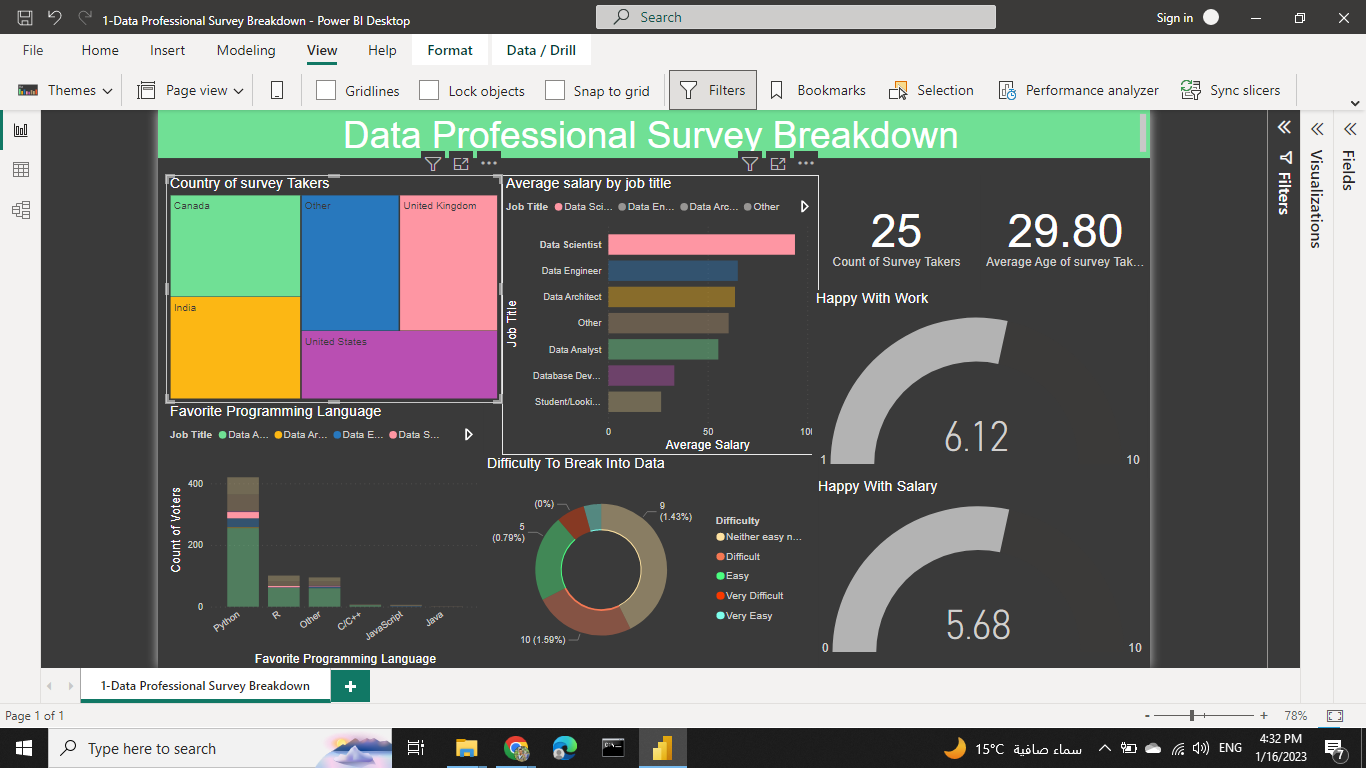

The dashboard page shown, as its layout file describes it:
{"tool":"powerbi","page":{"name":"Page 1","canvas":[1280,720],"ordinal":0},"visuals":[{"type":"textbox","box":[0,0,1280,62.2],"z":0},{"type":"card","fields":{"Values":["Count(Data Professional Survey.Unique ID)"]},"box":[843.3,84,218.4,151.2],"z":1000},{"type":"card","fields":{"Values":["Avg(Data Professional Survey.Q10 - Current Age)"]},"box":[1061.6,84,218.4,151.2],"z":2000},{"type":"barChart","title":"Average salary by job title","fields":{"Category":["Data Professional Survey.Q1 - Which Title Best Fits your Current Role?.1"],"Y":["Avg(Data Professional Survey.Average Salary)"],"Series":["Data Professional Survey.Q1 - Which Title Best Fits your Current Role?.1"]},"box":[443.5,84,409.9,361.2],"z":3000},{"type":"columnChart","title":"Favorite Programming Language","fields":{"Category":["Data Professional Survey.Q5 - Favorite Programming Language.1"],"Y":["CountNonNull(Data Professional Survey.Unique ID)"],"Series":["Data Professional Survey.Q1 - Which Title Best Fits your Current Role?.1"]},"box":[10.1,378,409.9,342.7],"z":3001},{"type":"treemap","title":"Country of survey Takers","fields":{"Group":["Data Professional Survey.Q11 - Which Country do you live in?.1"],"Values":["Count(Data Professional Survey.Q11 - Which Country do you live in?.1)"]},"box":[10.1,84,433.4,294],"z":3002},{"type":"gauge","title":"Happy With Work","fields":{"Y":["Avg(Data Professional Survey.Q6 - How Happy are you in your Current Position with the following? (Work/Life Balance))"],"MinValue":["Min(Data Professional Survey.Q6 - How Happy are you in your Current Position with the following? (Work/Life Balance))1"],"MaxValue":["Max(Data Professional Survey.Q6 - How Happy are you in your Current Position with the following? (Work/Life Balance))2"]},"box":[843.3,231.8,433.4,243.6],"z":3003},{"type":"gauge","title":"Happy With Salary","fields":{"Y":["Avg(Data Professional Survey.Q6 - How Happy are you in your Current Position with the following? (Salary))"],"MinValue":["Min(Data Professional Survey.Q6 - How Happy are you in your Current Position with the following? (Salary))"],"MaxValue":["Max(Data Professional Survey.Q6 - How Happy are you in your Current Position with the following? (Salary))"]},"box":[846.6,475.4,433.4,245.2],"z":3004},{"type":"donutChart","title":"Difficulty To Break Into Data","fields":{"Y":["CountNonNull(Data Professional Survey.Q7 - How difficult was it for you to break into Data?)"],"Category":["Data Professional Survey.Q7 - How difficult was it for you to break into Data?"]},"box":[419.9,445.1,433.4,275.5],"z":3005}]}

Visuals, with their boxes on the page's 1280x720 design canvas (x1, y1, x2, y2). These are canvas units, not pixel positions in the 1366x768 screenshot, which may show the page scaled, cropped or inside an application window:
textbox: bbox(0, 0, 1280, 62)
card - Count(Data Professional Survey.Unique ID): bbox(843, 84, 1062, 235)
card - Avg(Data Professional Survey.Q10 - Current Age): bbox(1062, 84, 1280, 235)
"Average salary by job title" barChart: bbox(444, 84, 853, 445)
"Favorite Programming Language" columnChart: bbox(10, 378, 420, 721)
"Country of survey Takers" treemap: bbox(10, 84, 444, 378)
"Happy With Work" gauge: bbox(843, 232, 1277, 475)
"Happy With Salary" gauge: bbox(847, 475, 1280, 721)
"Difficulty To Break Into Data" donutChart: bbox(420, 445, 853, 721)
